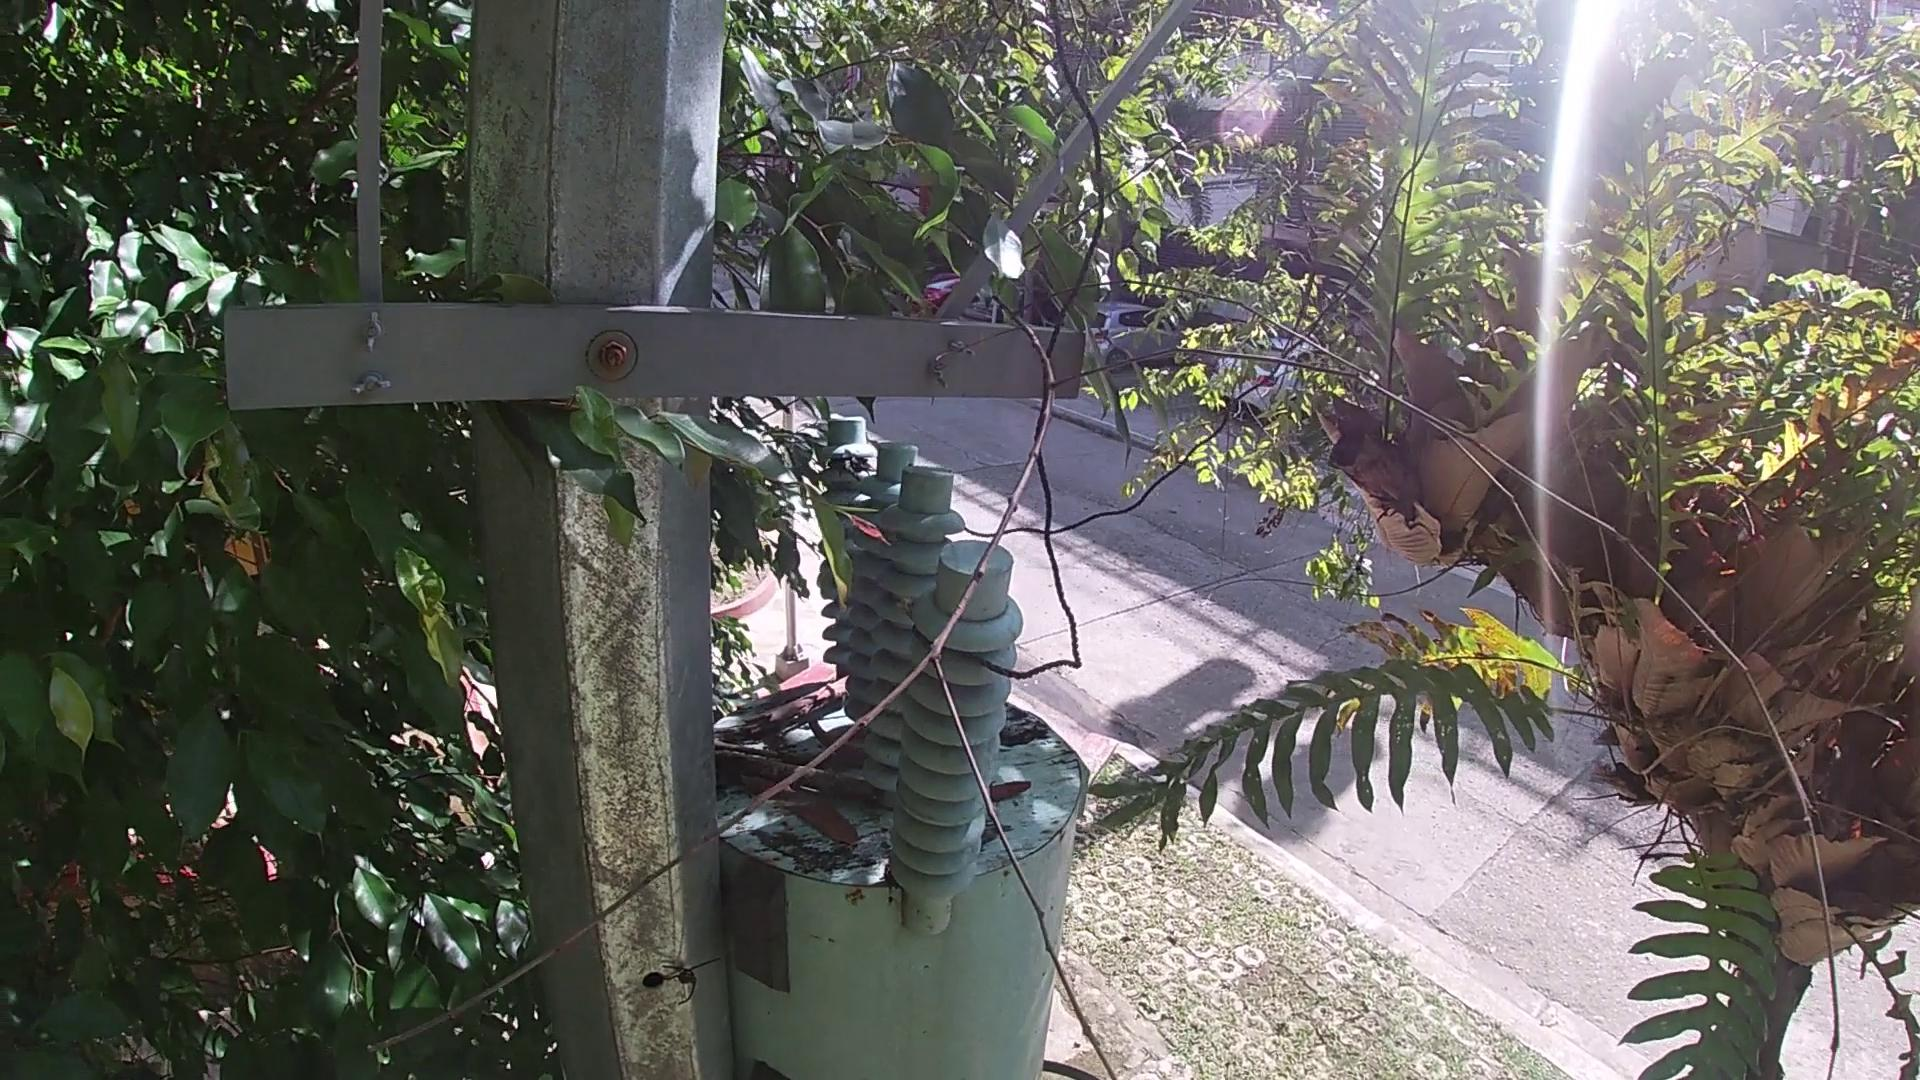leaf: (791, 807, 872, 862), (729, 787, 804, 808)
mahogany fruit: (807, 713, 877, 746), (990, 778, 1030, 804)
tree branch: (498, 203, 1867, 1068), (717, 665, 872, 752), (705, 754, 903, 803), (704, 738, 855, 761)
